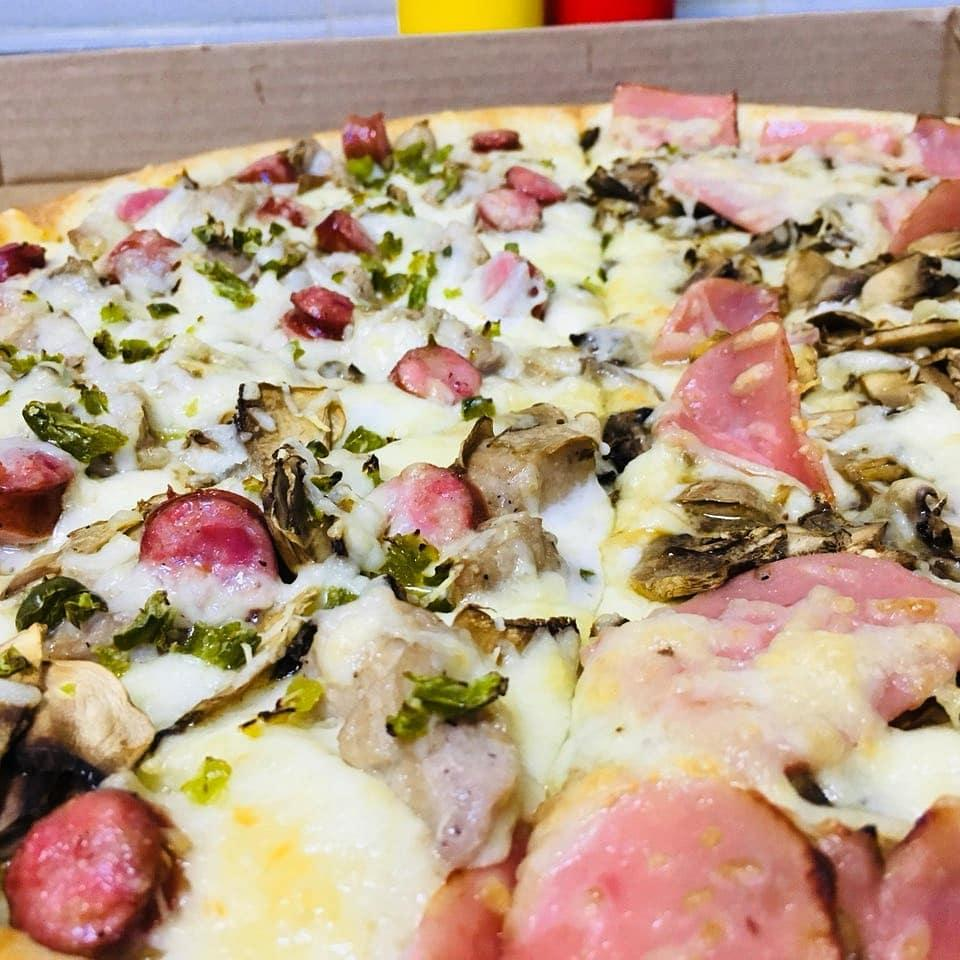Ham: (553, 555, 960, 960), (0, 795, 183, 960), (671, 337, 832, 507), (758, 117, 960, 182), (601, 77, 738, 159), (144, 488, 272, 575), (0, 449, 81, 551), (654, 274, 785, 336), (395, 338, 488, 412), (676, 172, 779, 232), (475, 165, 562, 235), (104, 228, 185, 299), (287, 281, 358, 344), (591, 164, 669, 221), (0, 232, 61, 291), (238, 142, 304, 187), (311, 210, 373, 250), (114, 184, 173, 222), (486, 246, 522, 298), (346, 114, 383, 159), (469, 129, 521, 158)
Mushroom: (18, 657, 156, 765), (434, 499, 567, 590), (464, 420, 599, 509), (792, 245, 960, 306), (235, 382, 348, 465), (806, 310, 960, 365), (888, 476, 960, 559), (678, 477, 780, 533)
Pizza: (0, 106, 960, 960)
